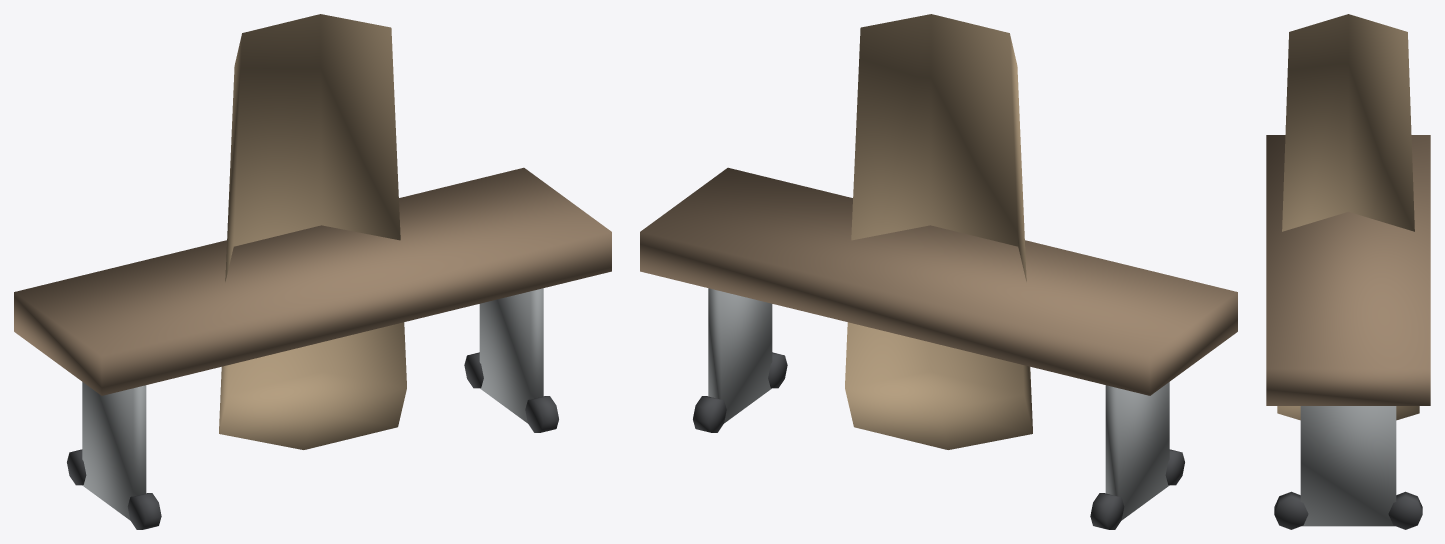
File: casket_bier__wide.glb
The picture shows the model from 3 angles, left to right: view 1: azimuth 30°, elevation 25°; view 2: azimuth 150°, elevation 25°; view 3: azimuth 270°, elevation 25°; orthographic projection. The views are drawn at different scales.
Visible parts, largest first — view 1: world; view 2: world; view 3: world.
Boxes of the visible parts, bbox=[...] form: world: bbox=[14, 14, 611, 529]; world: bbox=[640, 14, 1237, 529]; world: bbox=[1266, 14, 1430, 529].
Bounding box in the file's own units: 2.42 × 1.86 × 0.72.
